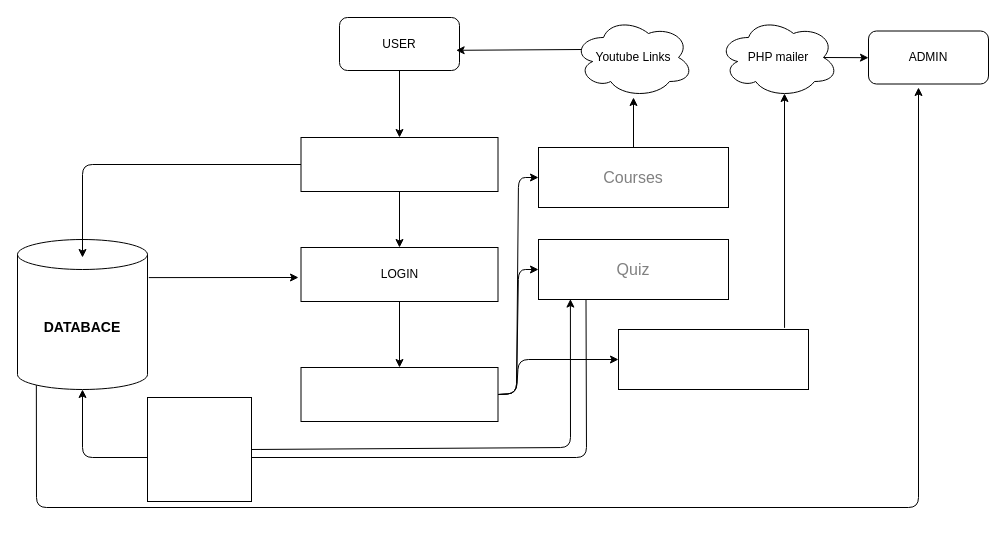
This 1006x533 diagram has some shape labels left out. Here are the shapes that lost their labels. From the top down, the centre of each, then its label:
(x=399, y=164): Registration
(x=713, y=359): Admissions
(x=399, y=394): Home
(x=199, y=449): ADD EDIT MANAGE
